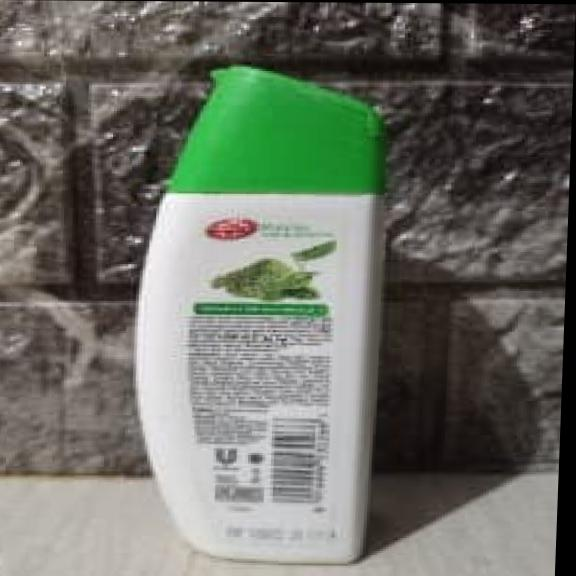Plastik: (134, 63, 409, 570)
